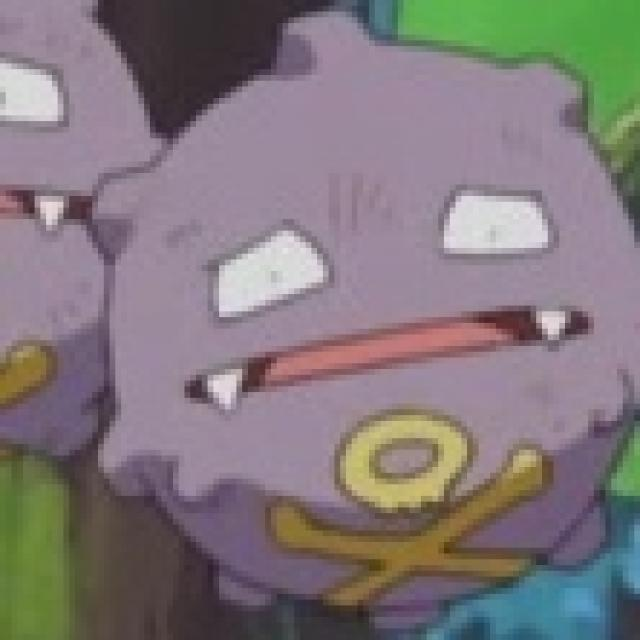Koffing: (105, 29, 628, 617)
